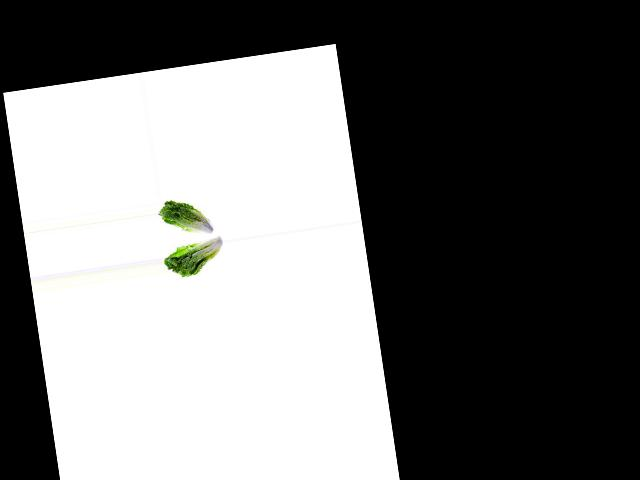lettuce: (157, 193, 220, 240)
